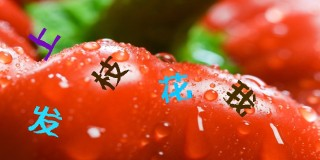上: (28, 26, 62, 61)
发: (28, 102, 62, 139)
我: (223, 80, 257, 118)
枝: (92, 55, 130, 91)
花: (159, 71, 194, 105)
